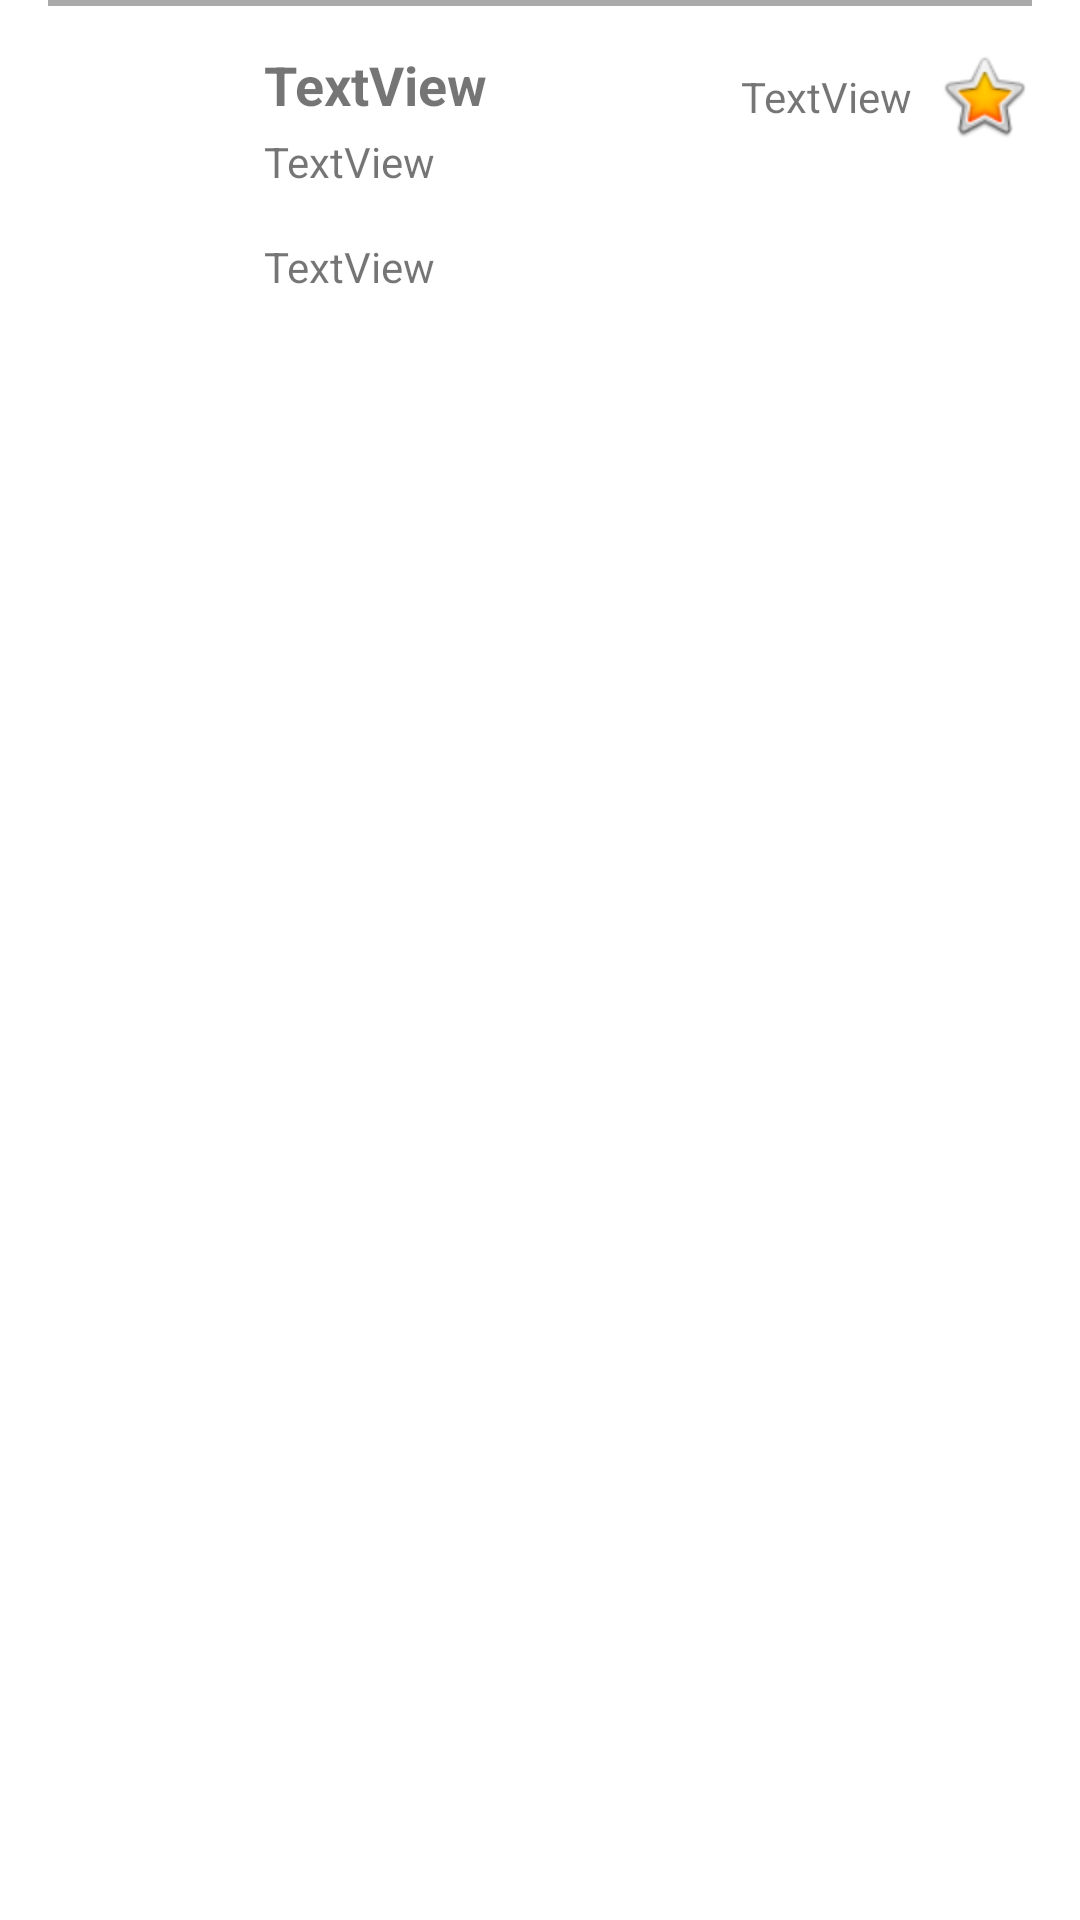

Icon click points for this 1080*1920 phone screenshot, format point (x, y):
star on: point (985, 97)
